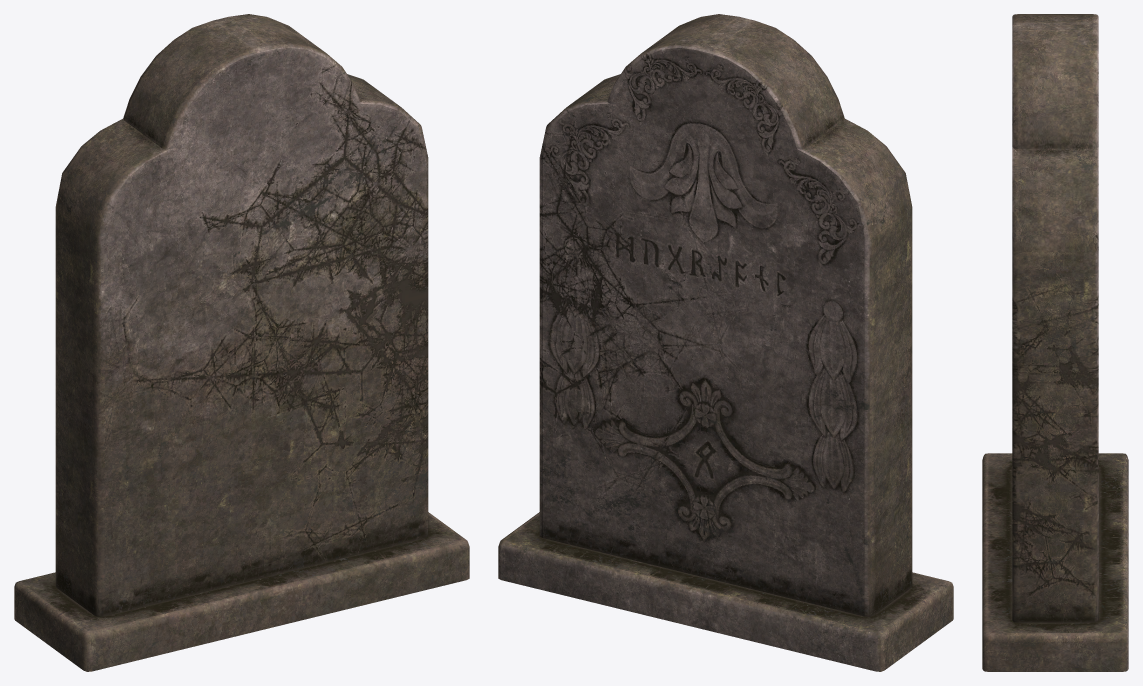
The model's file is SM_gravestone_44.fbx.
3 views of the same model, side by side, from view 1: azimuth 30°, elevation 25°; view 2: azimuth 150°, elevation 25°; view 3: azimuth 270°, elevation 25° (orthographic). The views are drawn at different scales.
Visible parts, largest first — view 1: SM_gravestone_044; view 2: SM_gravestone_044; view 3: SM_gravestone_044.
Part boxes in pixels (x1,y1,x2,y2): SM_gravestone_044: [14, 14, 469, 671]; SM_gravestone_044: [498, 14, 953, 671]; SM_gravestone_044: [982, 14, 1128, 671].
Size of the model in its own units: 62.25 by 87.25 by 20.87.
